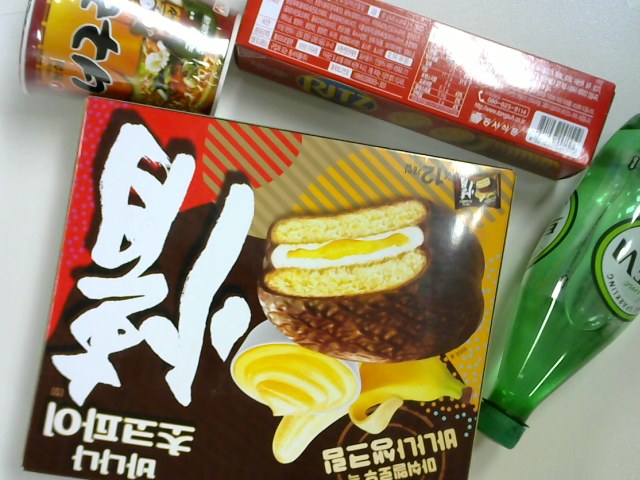Choco_Pie_Banana: (15, 91, 524, 480)
Raccoon: (18, 1, 254, 127)
Ritz_Cracker: (226, 1, 619, 191)
Treviraim_500ml: (466, 113, 640, 461)
